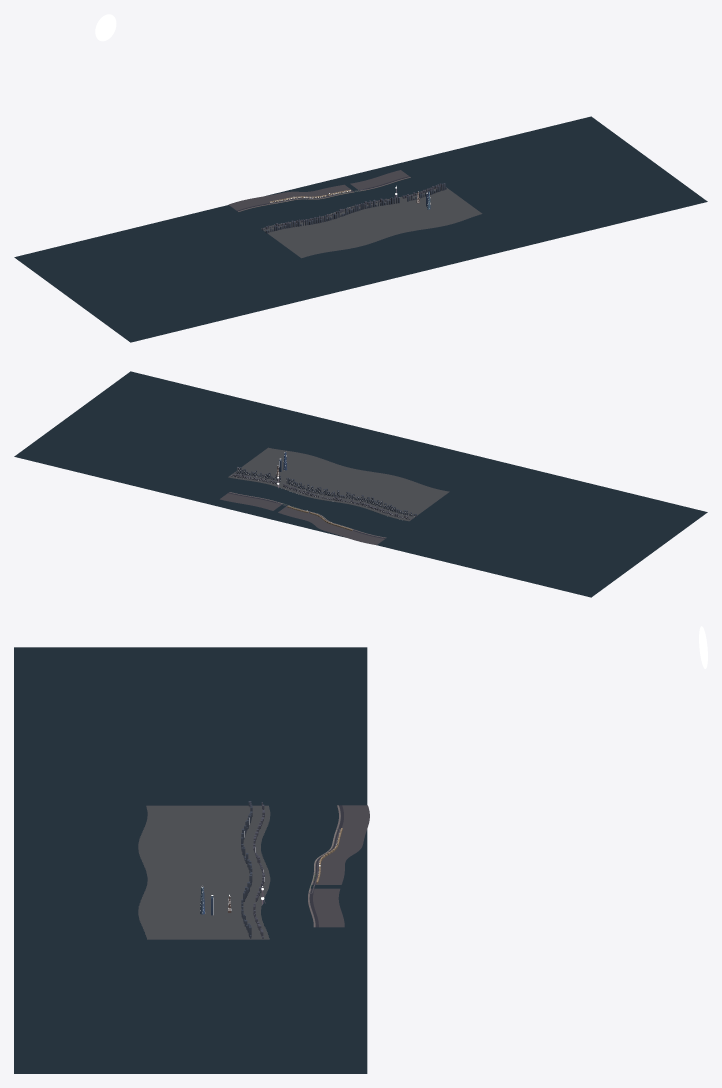
The model's file is bund.glb.
3 views of the same model, one above another, from view 1: azimuth 30°, elevation 25°; view 2: azimuth 150°, elevation 25°; view 3: azimuth 270°, elevation 25° (orthographic). The views are drawn at different scales.
Parts seen in each view (by area): view 1: Sea, Peaks; view 2: Sea, Peaks; view 3: Sea, Peaks.
Part boxes in pixels (box(x1,y1,x2,y2)): Sea: box(14, 116, 707, 342); Peaks: box(261, 183, 482, 258); Sea: box(14, 371, 707, 597); Peaks: box(228, 447, 449, 521); Sea: box(14, 647, 367, 1073); Peaks: box(138, 801, 270, 939).
Bounding box in the file's own units: 14000 × 2589 × 9624.
